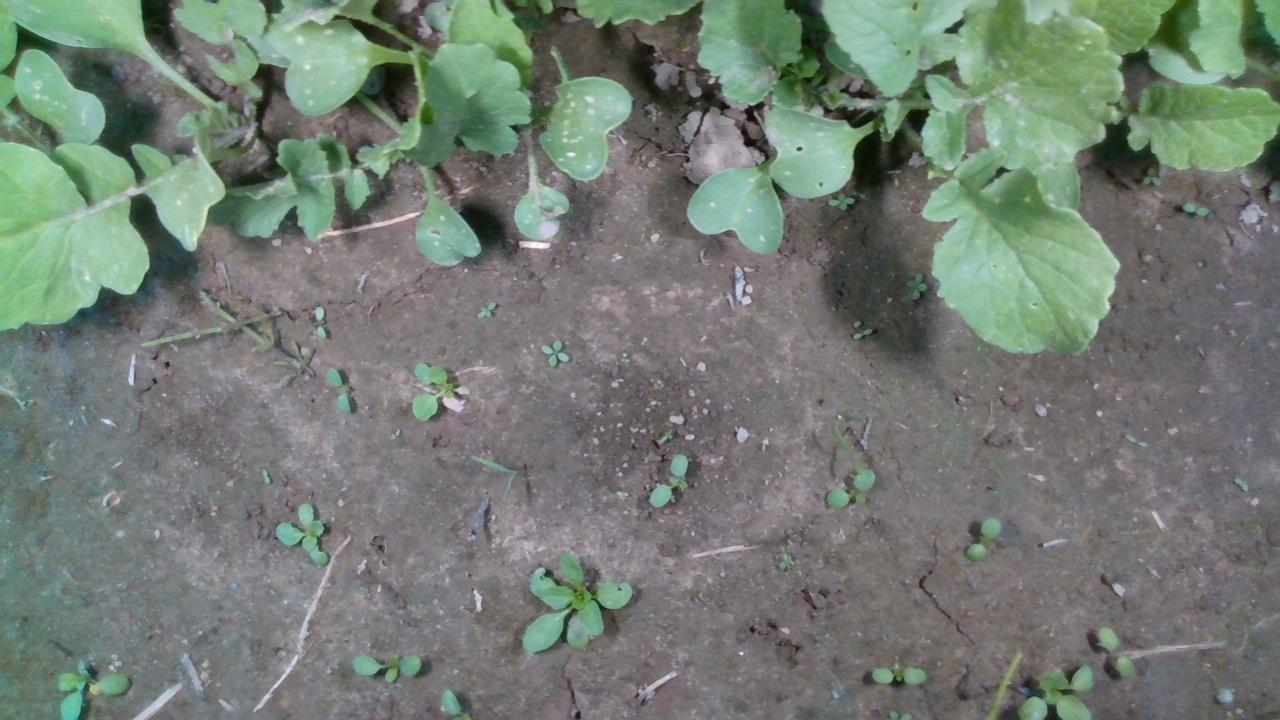weed: (647, 451, 688, 507), (349, 651, 420, 680), (1096, 626, 1136, 677), (824, 469, 875, 507), (964, 516, 1002, 563), (323, 364, 351, 414), (868, 666, 927, 684), (538, 338, 569, 368), (906, 270, 926, 300), (312, 303, 327, 341), (826, 191, 854, 210), (1181, 201, 1210, 216), (475, 299, 495, 319), (1142, 166, 1160, 186), (655, 426, 673, 445), (850, 325, 873, 337), (261, 467, 271, 484)
